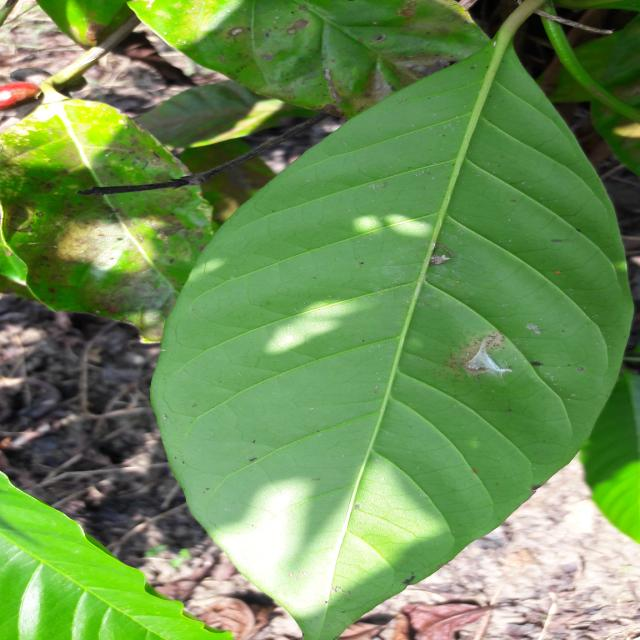Sanas: (149, 28, 640, 640)
